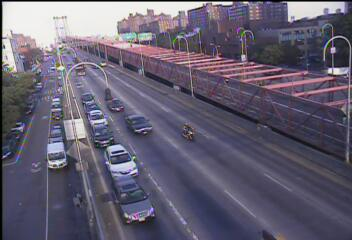neg: (176, 117, 197, 144), (134, 61, 151, 83)
